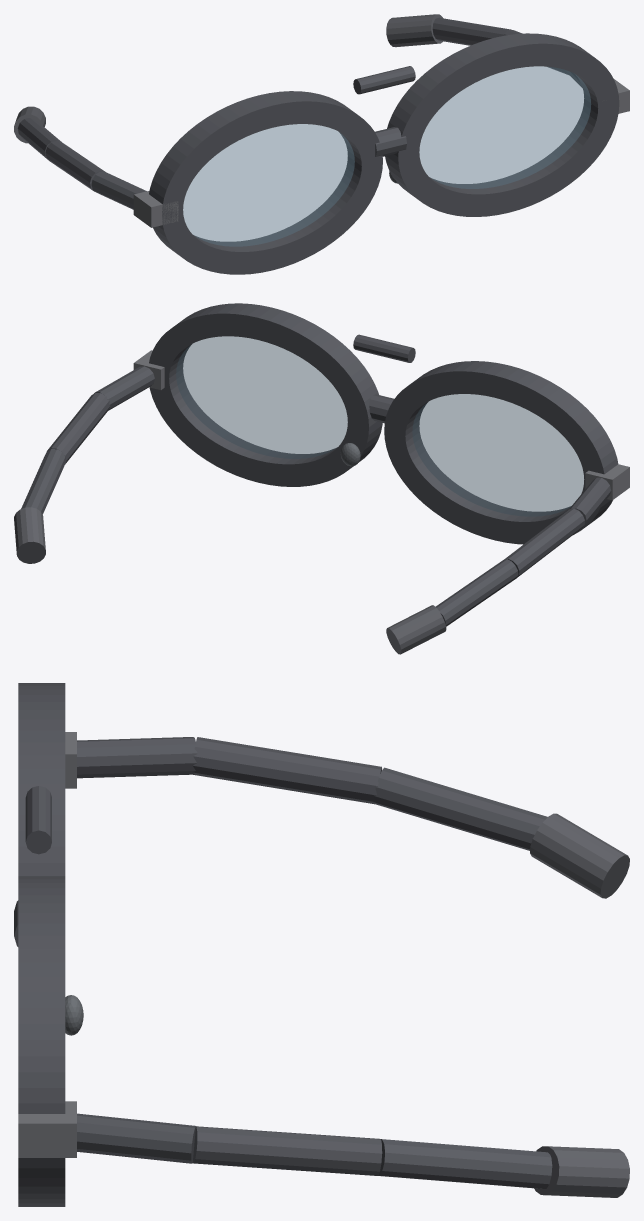
File: sunglasses_tryon.glb
3 renders of one model, top to bottom at view 1: azimuth 30°, elevation 25°; view 2: azimuth 150°, elevation 25°; view 3: azimuth 270°, elevation 25°, orthographic. The views are drawn at different scales.
Parts seen in each view (by area): view 1: left_frame_rim, right_frame_rim, right_tinted_lens, left_tinted_lens, right_temple_tip, right_temple_2, left_temple_1, left_hinge, left_temple_0, brow_bridge, left_temple_2, bridge (+1 smaller); view 2: right_frame_rim, left_frame_rim, right_tinted_lens, left_tinted_lens, left_temple_2, left_temple_1, left_temple_tip, right_temple_1, right_temple_tip, right_temple_2, right_temple_0, brow_bridge (+4 smaller); view 3: right_frame_rim, left_frame_rim, left_temple_1, right_temple_1, right_temple_2, left_temple_2, left_temple_tip, right_temple_0, left_temple_0, right_temple_tip, right_hinge, brow_bridge.
Boxes of the visible parts, left/top/right/bottom form: left_frame_rim: left=149, top=91, right=382, bottom=274; right_frame_rim: left=385, top=33, right=619, bottom=216; right_tinted_lens: left=419, top=66, right=591, bottom=188; left_tinted_lens: left=183, top=124, right=354, bottom=246; right_temple_tip: left=386, top=14, right=443, bottom=47; right_temple_2: left=432, top=17, right=511, bottom=45; left_temple_1: left=45, top=141, right=104, bottom=191; left_hinge: left=133, top=190, right=178, bottom=227; left_temple_0: left=91, top=171, right=146, bottom=209; brow_bridge: left=353, top=66, right=415, bottom=94; left_temple_2: left=17, top=118, right=61, bottom=160; bridge: left=375, top=127, right=406, bottom=156; right_frame_rim: left=149, top=303, right=382, bottom=486; left_frame_rim: left=384, top=361, right=618, bottom=544; right_tinted_lens: left=176, top=336, right=347, bottom=458; left_tinted_lens: left=412, top=394, right=583, bottom=516; left_temple_2: left=435, top=559, right=518, bottom=626; left_temple_1: left=504, top=508, right=584, bottom=577; left_temple_tip: left=386, top=605, right=446, bottom=654; right_temple_1: left=47, top=393, right=110, bottom=464; right_temple_tip: left=14, top=507, right=45, bottom=563; right_temple_2: left=21, top=449, right=66, bottom=514; right_temple_0: left=94, top=366, right=154, bottom=410; brow_bridge: left=353, top=334, right=415, bottom=362; right_frame_rim: left=18, top=876, right=65, bottom=1206; left_frame_rim: left=18, top=683, right=65, bottom=876; left_temple_1: left=192, top=737, right=381, bottom=804; right_temple_1: left=192, top=1126, right=382, bottom=1175; right_temple_2: left=378, top=1139, right=552, bottom=1188; left_temple_2: left=373, top=767, right=547, bottom=850; left_temple_tip: left=530, top=813, right=629, bottom=898; right_temple_0: left=77, top=1113, right=196, bottom=1163; left_temple_0: left=77, top=737, right=197, bottom=778; right_temple_tip: left=534, top=1146, right=629, bottom=1197; right_hinge: left=18, top=1101, right=76, bottom=1157; brow_bridge: left=25, top=786, right=51, bottom=854.
Bounding box in the file's own units: 3.27 × 1.04 × 2.1.
